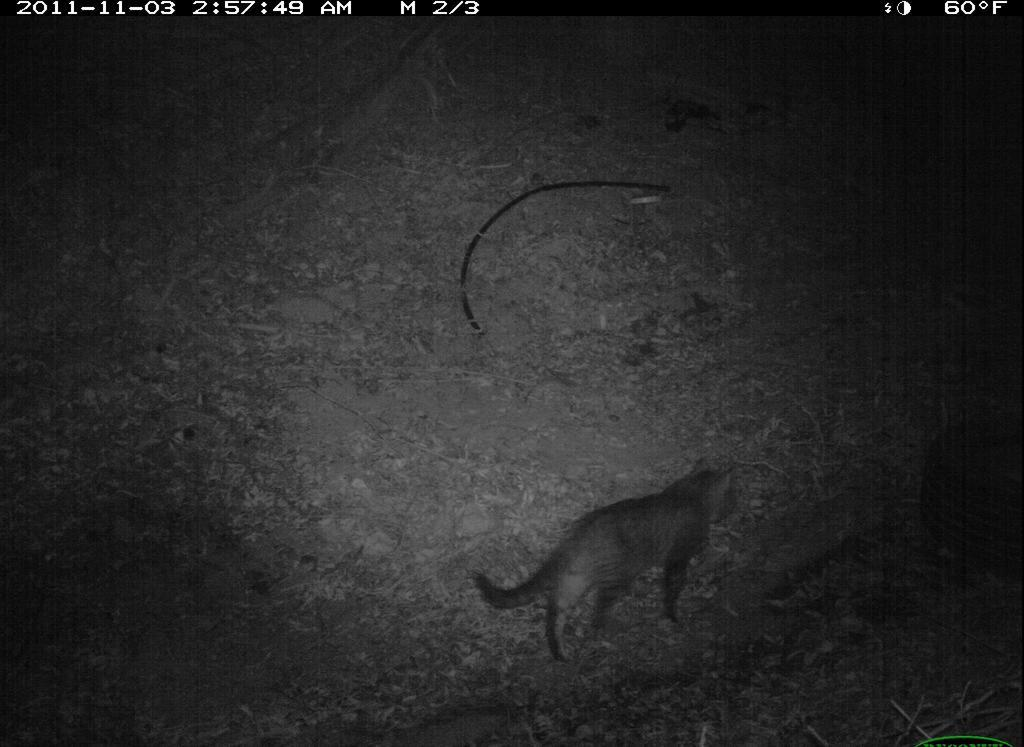cat: (455, 454, 751, 669)
